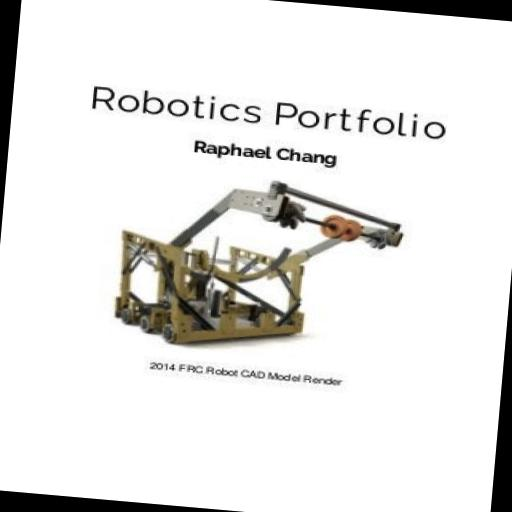robot: (110, 168, 410, 362)
